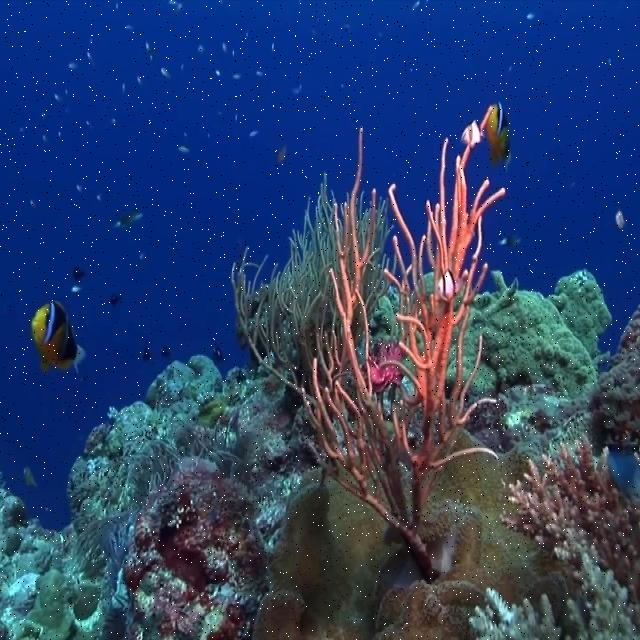aquatic plants: (233, 169, 338, 391)
fish: (31, 297, 89, 375), (487, 98, 512, 163), (438, 269, 465, 304)
reefs: (123, 377, 639, 639), (297, 103, 508, 580)
sea-floor: (0, 352, 263, 639), (251, 449, 573, 637), (466, 263, 639, 450)
